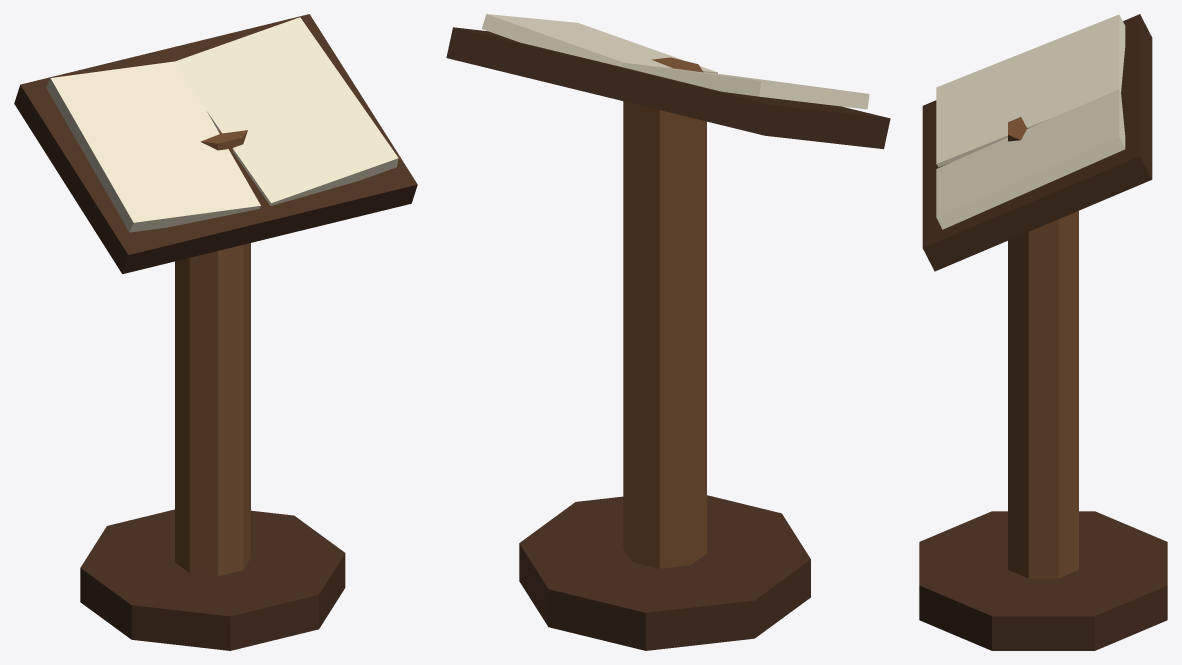
The model's file is lectern.glb.
3 renders of one model, left to right at view 1: azimuth 30°, elevation 25°; view 2: azimuth 150°, elevation 25°; view 3: azimuth 270°, elevation 25°, orthographic. The views are drawn at different scales.
Parts seen in each view (by area): view 1: lectern; view 2: lectern; view 3: lectern.
Boxes of the visible parts, x1=… form: lectern: x1=14, y1=14, x2=417, y2=650; lectern: x1=446, y1=14, x2=890, y2=650; lectern: x1=919, y1=14, x2=1167, y2=650.
Bounding box in the file's own units: 0.7 × 1.2 × 0.5174.
